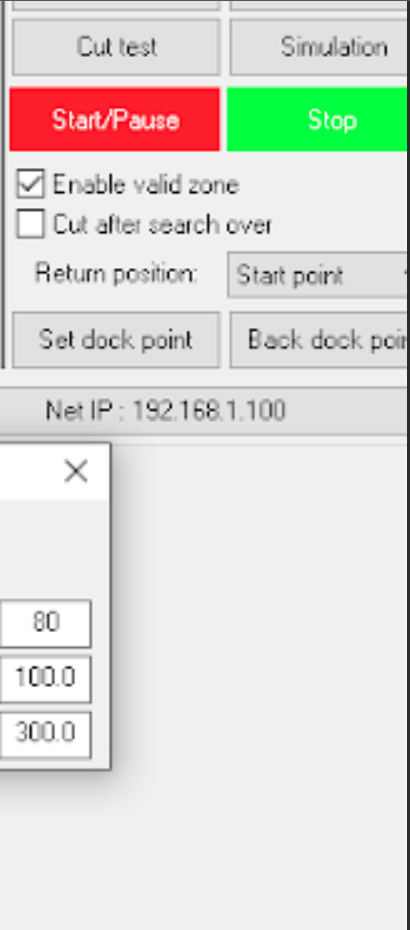start: (7, 86, 226, 154)
